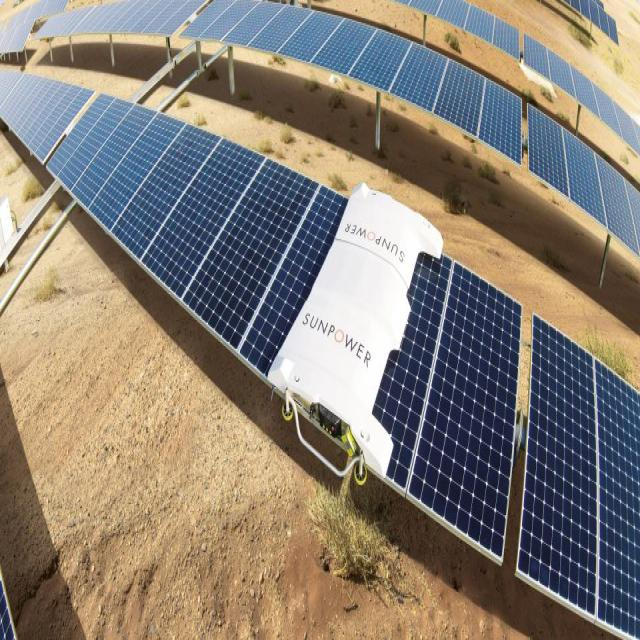clean-solar-panel: (50, 93, 346, 379), (374, 255, 521, 561), (516, 314, 640, 639)
